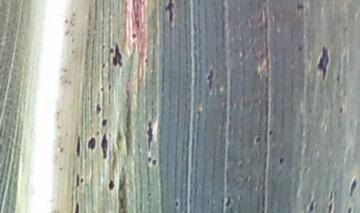tarspot: (313, 42, 332, 81), (142, 117, 157, 155), (109, 39, 125, 73), (162, 1, 181, 29), (346, 173, 359, 200), (204, 64, 216, 93), (71, 133, 84, 159), (99, 133, 112, 159), (86, 133, 98, 157), (325, 189, 337, 213), (72, 171, 87, 189), (304, 195, 318, 213), (222, 193, 236, 210), (92, 102, 106, 116), (293, 1, 309, 13), (106, 177, 118, 192), (334, 102, 346, 117), (71, 200, 84, 213), (252, 134, 264, 146), (275, 155, 287, 166), (172, 197, 182, 210), (145, 187, 154, 201), (100, 116, 109, 129), (129, 30, 139, 41), (266, 127, 276, 138), (106, 81, 114, 94), (97, 83, 105, 95), (344, 204, 354, 213), (143, 55, 151, 66), (152, 156, 159, 168), (99, 61, 107, 71), (296, 43, 304, 53), (145, 155, 151, 165)
